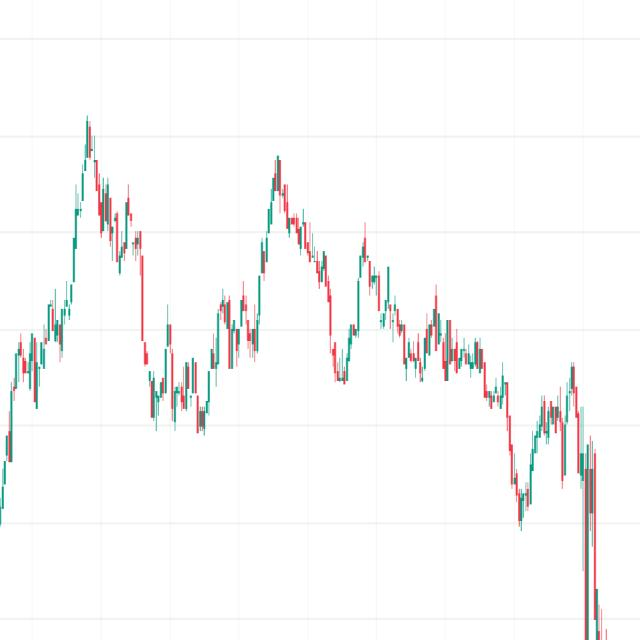Triple-Bottom: (140, 326, 220, 439)
